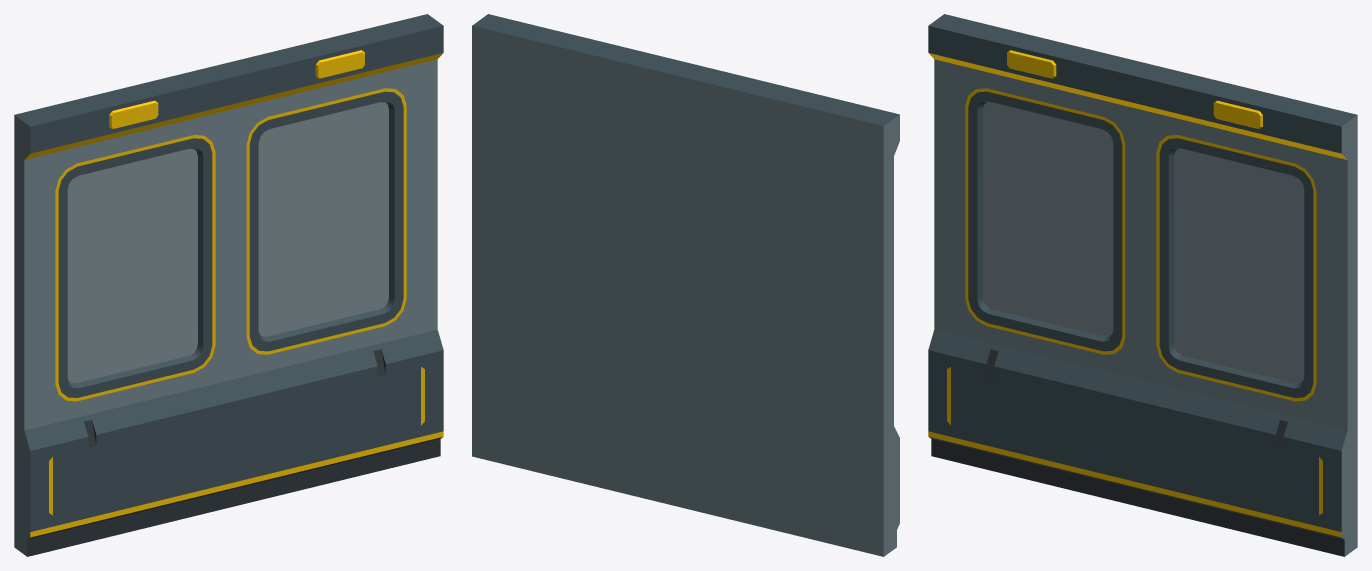
File: Wall_type_C_017.fbx
3 views of the same model, side by side, from view 1: azimuth 30°, elevation 25°; view 2: azimuth 150°, elevation 25°; view 3: azimuth 330°, elevation 25° (orthographic).
Visible parts, largest first — view 1: Wall_type_C_017; view 2: Wall_type_C_017; view 3: Wall_type_C_017.
Boxes of the visible parts, box(x1,y1,x2,y2) form: Wall_type_C_017: box(14, 14, 443, 556); Wall_type_C_017: box(472, 14, 899, 556); Wall_type_C_017: box(928, 14, 1357, 556).
Size of the model in its own units: 400 by 28.98 by 400.
